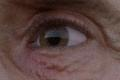eye: (40, 27, 68, 47)
